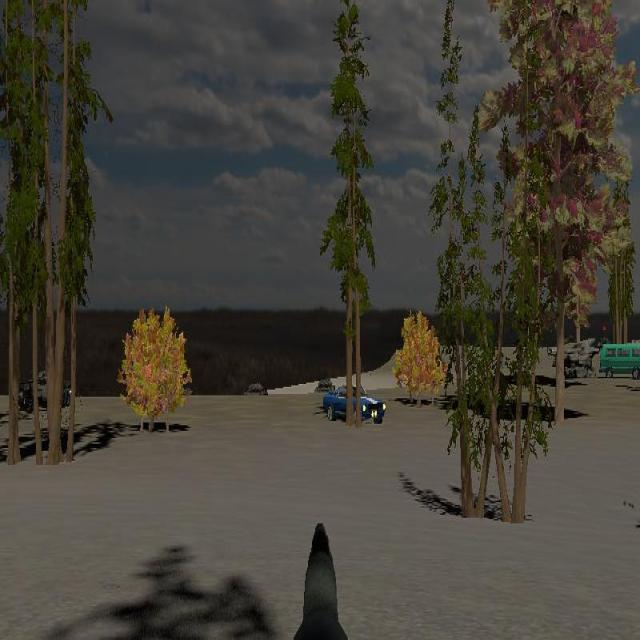car: (322, 382, 386, 424), (599, 341, 640, 380)
